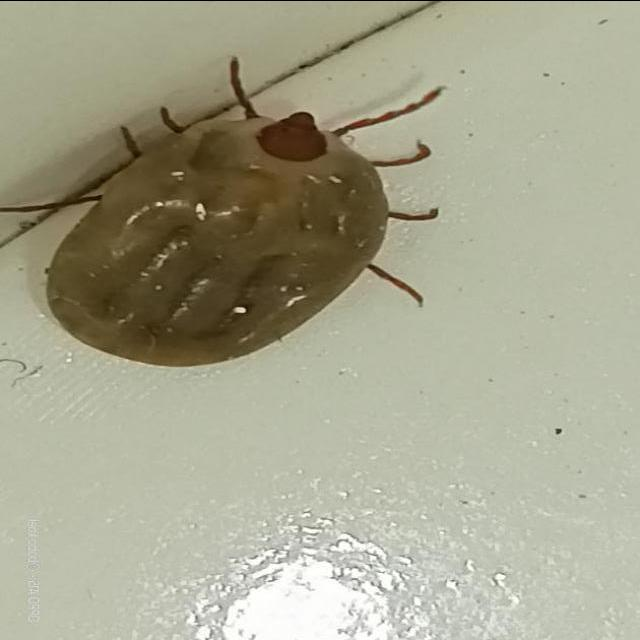Rhipicephalus Sanguineus-F-Fed: (0, 54, 448, 365)
